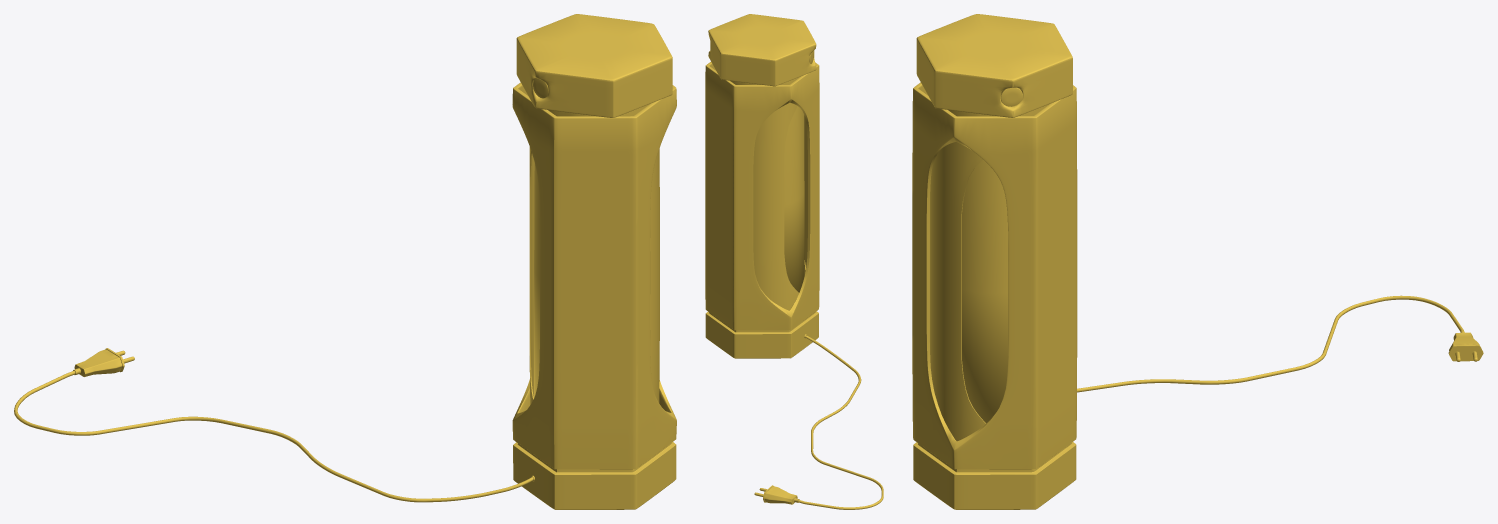
The model's file is kosher_lamp.glb.
3 renders of one model, left to right at view 1: azimuth 30°, elevation 25°; view 2: azimuth 150°, elevation 25°; view 3: azimuth 270°, elevation 25°, orthographic. The views are drawn at different scales.
Parts seen in each view (by area): view 1: bas.001, haut.001, CABLE.001, cache.001; view 2: bas.001, haut.001, cache.001, CABLE.001; view 3: bas.001, haut.001, cache.001, CABLE.001.
Part boxes in pixels (<box>): bas.001: <box>512,82,676,509</box>; haut.001: <box>516,14,672,404</box>; CABLE.001: <box>14,348,534,502</box>; cache.001: <box>534,163,539,397</box>; bas.001: <box>705,62,819,358</box>; haut.001: <box>708,14,816,310</box>; cache.001: <box>784,106,804,292</box>; CABLE.001: <box>754,334,883,509</box>; bas.001: <box>912,82,1077,509</box>; haut.001: <box>916,14,1072,441</box>; cache.001: <box>962,159,1008,423</box>; CABLE.001: <box>1077,295,1483,392</box>.
Bounding box in the file's own units: 0.5315 × 0.5012 × 0.5969.
